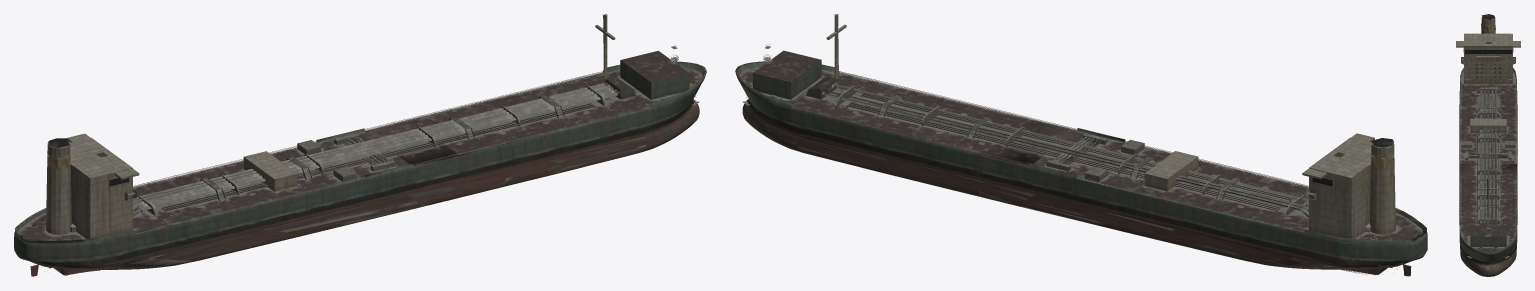
File: fh_battle_e_ship_tanker.glb
The picture shows the model from 3 angles, left to right: view 1: azimuth 30°, elevation 25°; view 2: azimuth 150°, elevation 25°; view 3: azimuth 270°, elevation 25°; orthographic projection. The views are drawn at different scales.
Parts seen in each view (by area): view 1: body; view 2: body; view 3: body.
Part boxes in pixels (left/top/right/bottom): body: left=14, top=14, right=706, bottom=276; body: left=735, top=14, right=1427, bottom=276; body: left=1456, top=14, right=1520, bottom=276.
Size of the model in its own units: 1 by 0.1828 by 0.1378.
1 material, 1 textured.
